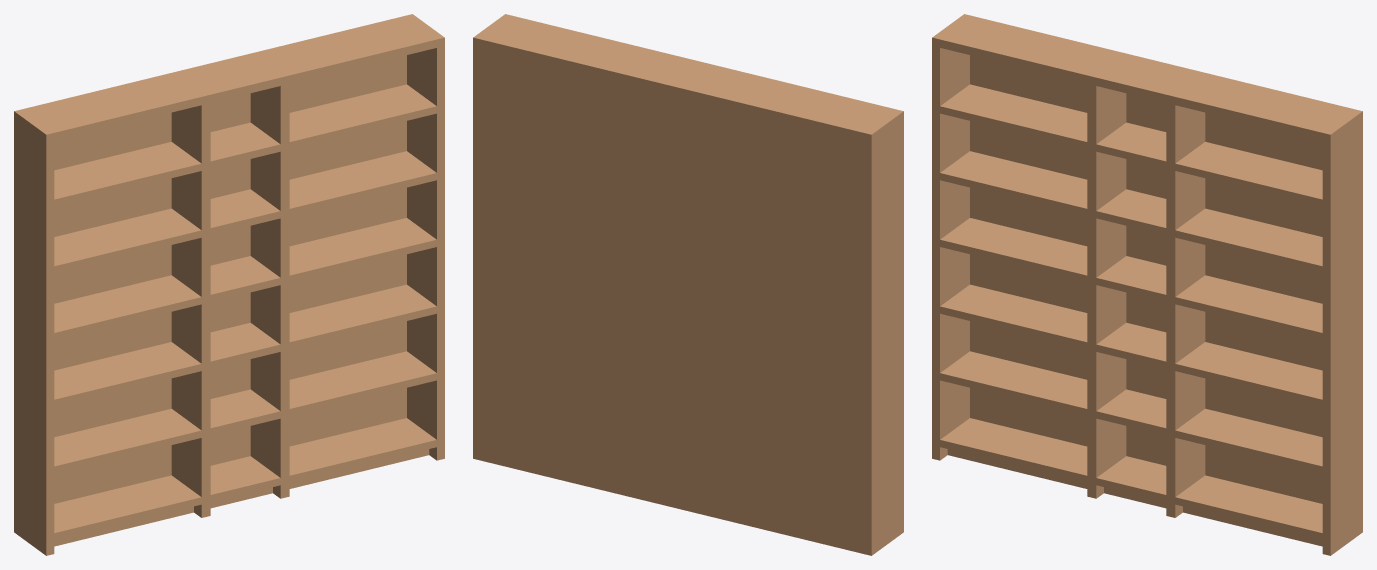
The model's file is IKEA-BILLY_bookcase_combination-3D.obj.
The picture shows the model from 3 angles, left to right: view 1: azimuth 30°, elevation 25°; view 2: azimuth 150°, elevation 25°; view 3: azimuth 330°, elevation 25°; orthographic projection.
Visible parts, largest first — view 1: Rectangle001, Line001, Rectangle007, Rectangle005, Rectangle003, Rectangle004, Rectangle002, Rectangle006, Rectangle008, Rectangle009, Rectangle010; view 2: Rectangle001, Line001, Rectangle008, Rectangle007, Rectangle009, Rectangle003, Rectangle004; view 3: Rectangle001, Line001, Rectangle007, Rectangle002, Rectangle006, Rectangle005, Rectangle003, Rectangle004, Rectangle008, Rectangle009, Rectangle010.
Boxes of the visible parts, left/top/right/bottom form: Rectangle001: left=14, top=14, right=413, bottom=533; Line001: left=14, top=14, right=444, bottom=555; Rectangle007: left=54, top=418, right=436, bottom=540; Rectangle005: left=54, top=284, right=436, bottom=406; Rectangle003: left=54, top=151, right=436, bottom=273; Rectangle004: left=54, top=218, right=436, bottom=340; Rectangle002: left=54, top=84, right=436, bottom=206; Rectangle006: left=54, top=351, right=436, bottom=473; Rectangle008: left=171, top=103, right=210, bottom=517; Rectangle009: left=250, top=84, right=289, bottom=498; Rectangle010: left=54, top=449, right=429, bottom=546; Rectangle001: left=473, top=36, right=873, bottom=554; Line001: left=473, top=14, right=903, bottom=555; Rectangle008: left=707, top=103, right=716, bottom=491; Rectangle007: left=481, top=441, right=863, bottom=539; Rectangle009: left=628, top=84, right=637, bottom=498; Rectangle003: left=481, top=173, right=861, bottom=270; Rectangle004: left=481, top=244, right=861, bottom=337; Rectangle001: left=962, top=14, right=1362, bottom=527; Line001: left=932, top=14, right=1362, bottom=555; Rectangle007: left=940, top=418, right=1322, bottom=540; Rectangle002: left=940, top=84, right=1322, bottom=206; Rectangle006: left=940, top=351, right=1322, bottom=473; Rectangle005: left=940, top=284, right=1322, bottom=406; Rectangle003: left=940, top=151, right=1322, bottom=273; Rectangle004: left=940, top=218, right=1322, bottom=340; Rectangle008: left=1087, top=84, right=1126, bottom=498; Rectangle009: left=1166, top=103, right=1205, bottom=517; Rectangle010: left=947, top=449, right=1322, bottom=546.
Size of the model in its own units: 2000 by 2020 by 280.
